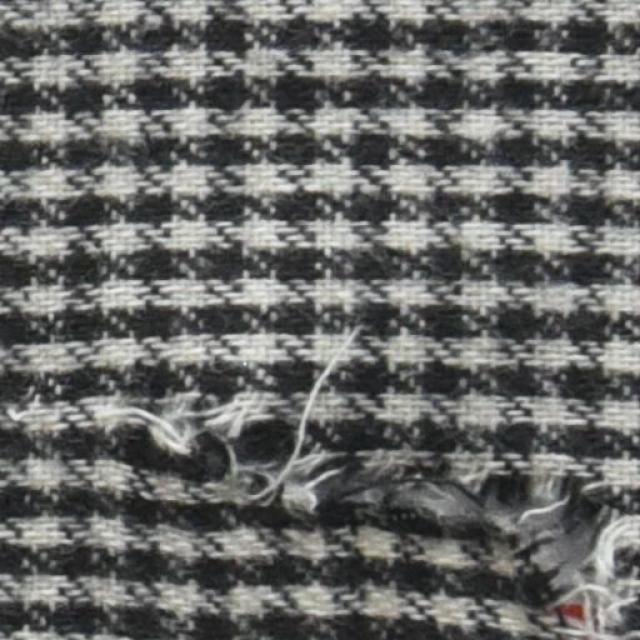Hole: (402, 465, 607, 610)
Snag: (60, 391, 603, 639), (583, 486, 639, 639)
